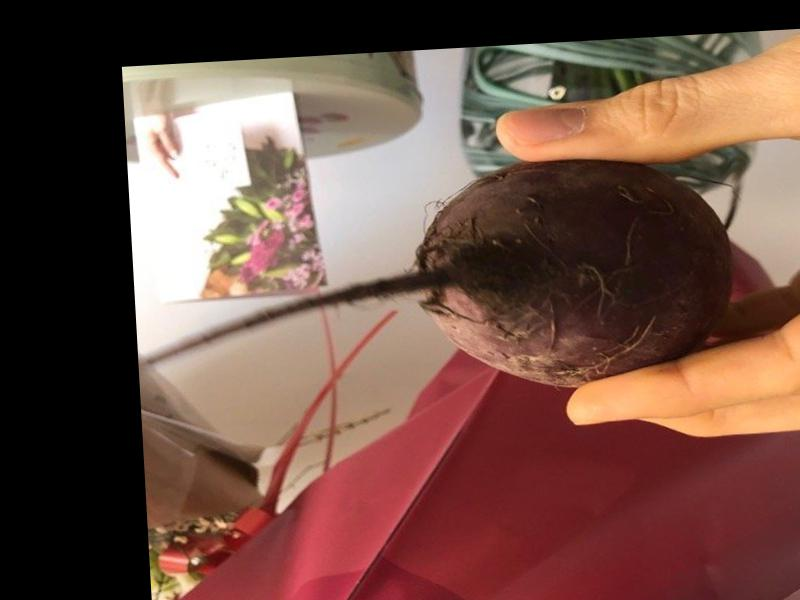Beet: (127, 149, 747, 410)
